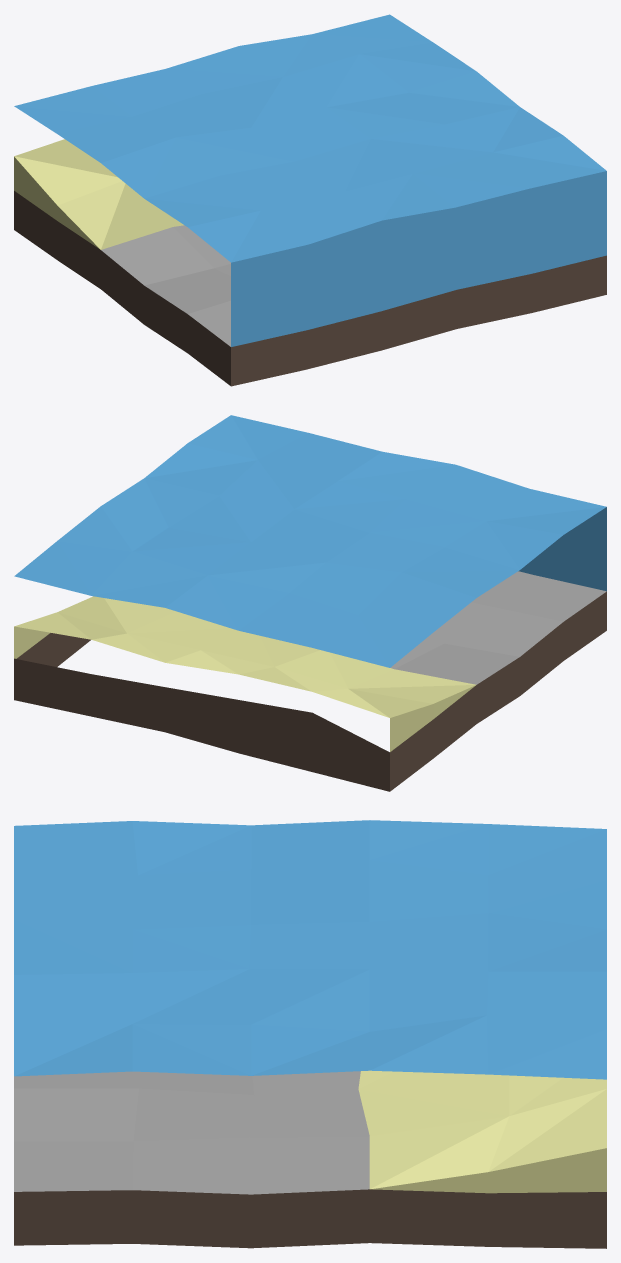
The model's file is seamid.fbx.
3 views of the same model, one above another, from view 1: azimuth 30°, elevation 25°; view 2: azimuth 150°, elevation 25°; view 3: azimuth 270°, elevation 25° (orthographic). The views are drawn at different scales.
Visible parts, largest first — view 1: polySurface6; view 2: polySurface6; view 3: polySurface6.
Boxes of the visible parts, x1,y1,x2,y2 form: polySurface6: (14, 14, 606, 386); polySurface6: (14, 415, 606, 791); polySurface6: (14, 820, 606, 1248).
Bounding box in the file's own units: 20 × 7 × 20.
